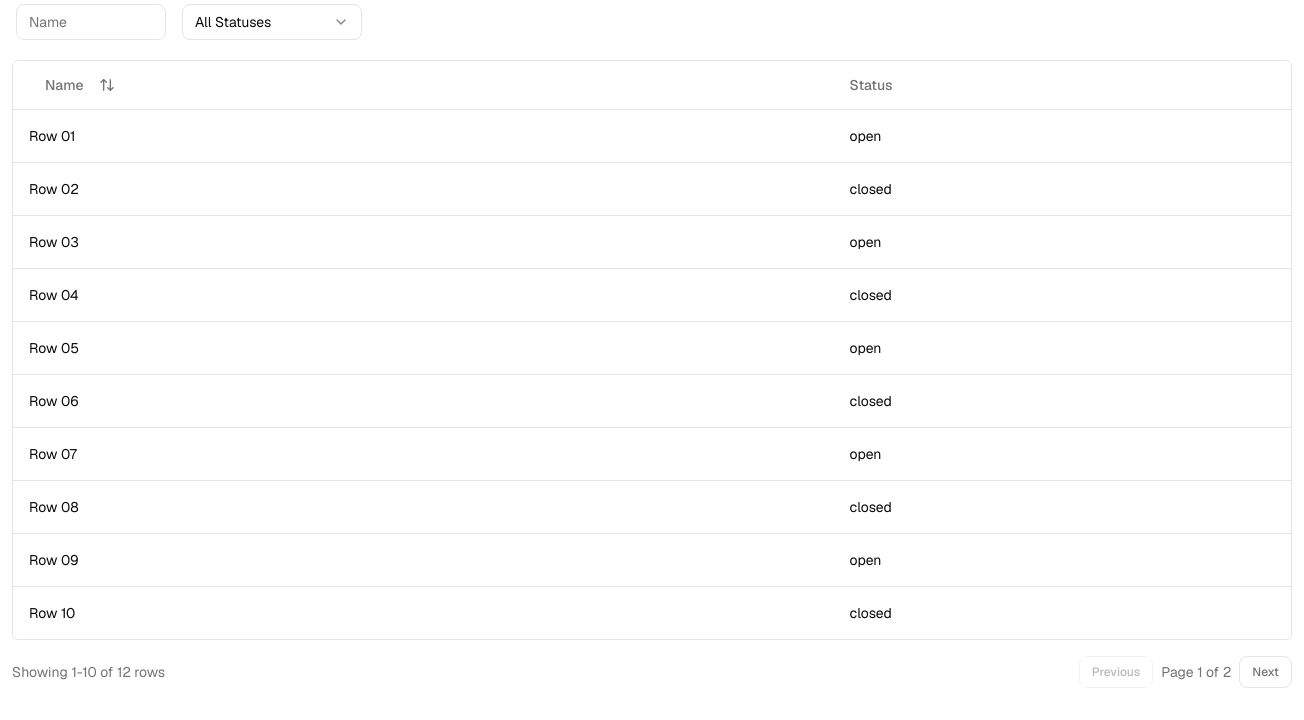
Test: DataTable › pages ten rows at a time
The width and height of the screenshot is (1304, 720).
Expected: the text "Showing 1-10 of 12 rows" is shown, [12,662,165,682]
Expected: the button "Previous" is disabled, [1079,656,1153,688]
Click the button "Next".
click(1266, 672)  # box [1239,656,1292,688]
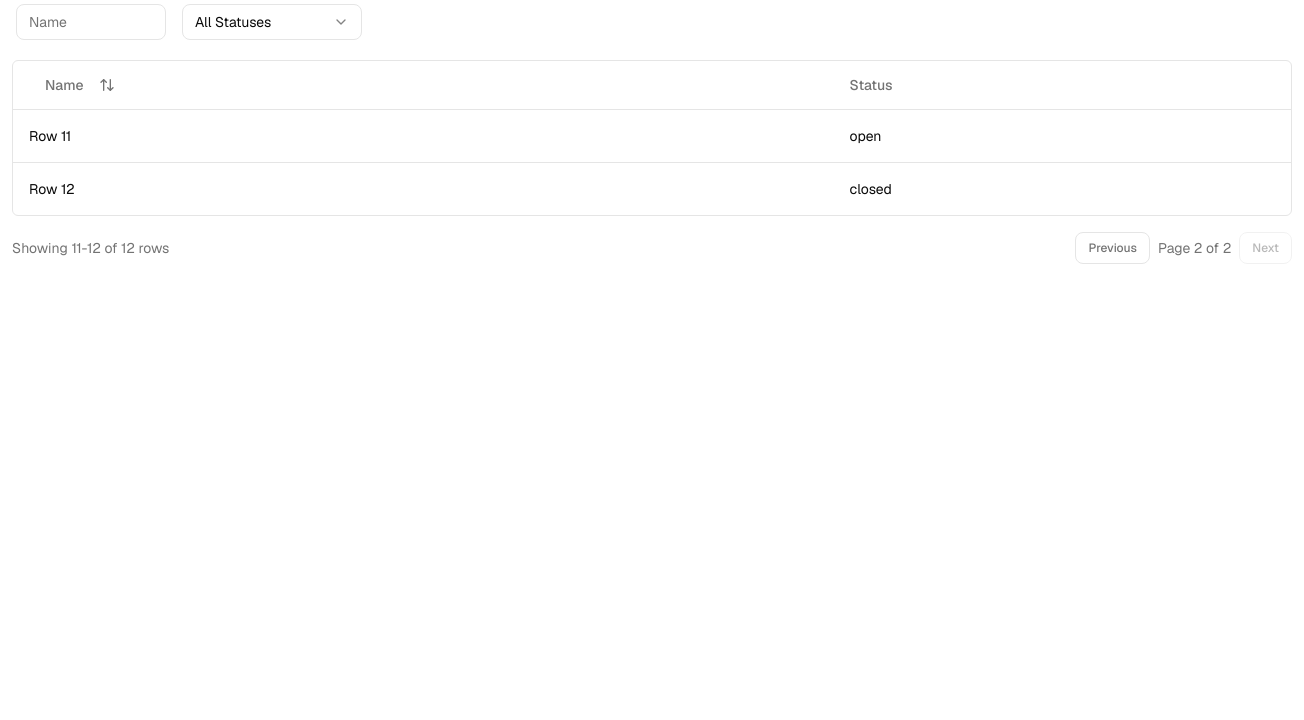
Now the text "Showing 11-12 of 12 rows" is shown, box [12,238,169,258]
Now the button "Next" is disabled, box [1239,232,1292,264]
